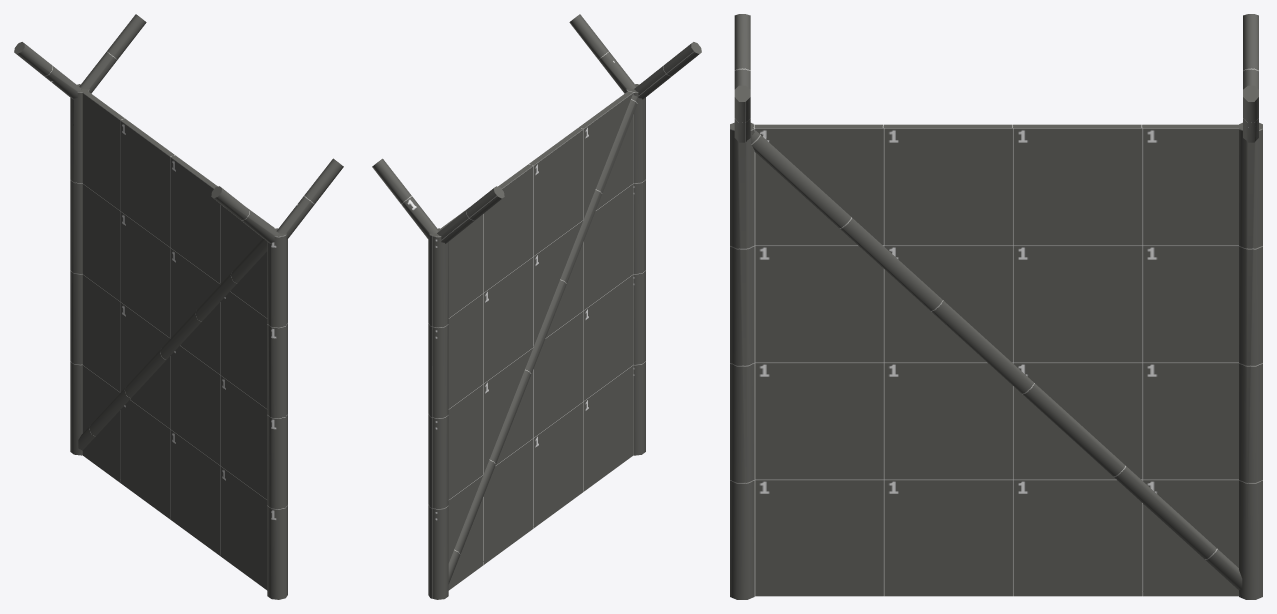
File: Fence.fbx
3 views of the same model, side by side, from view 1: azimuth 30°, elevation 25°; view 2: azimuth 150°, elevation 25°; view 3: azimuth 270°, elevation 25° (orthographic). The views are drawn at different scales.
Visible parts, largest first — view 1: dev1 Mesh (1); view 2: dev1 Mesh (1); view 3: dev1 Mesh (1).
Boxes of the visible parts, x1,y1,x2,y2 form: dev1 Mesh (1): (14, 14, 343, 599); dev1 Mesh (1): (372, 14, 701, 599); dev1 Mesh (1): (730, 14, 1262, 599).
Size of the model in its own units: 1.5 by 4.66 by 4.12.
